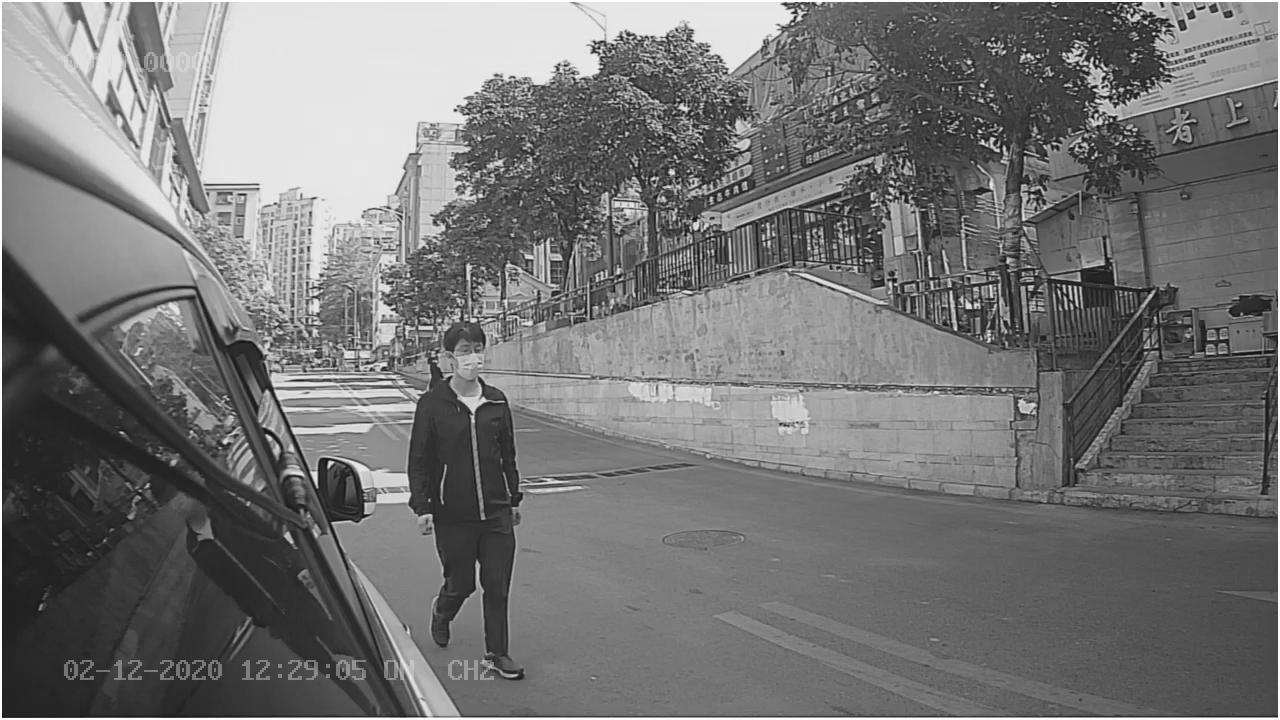person: (402, 312, 548, 687)
